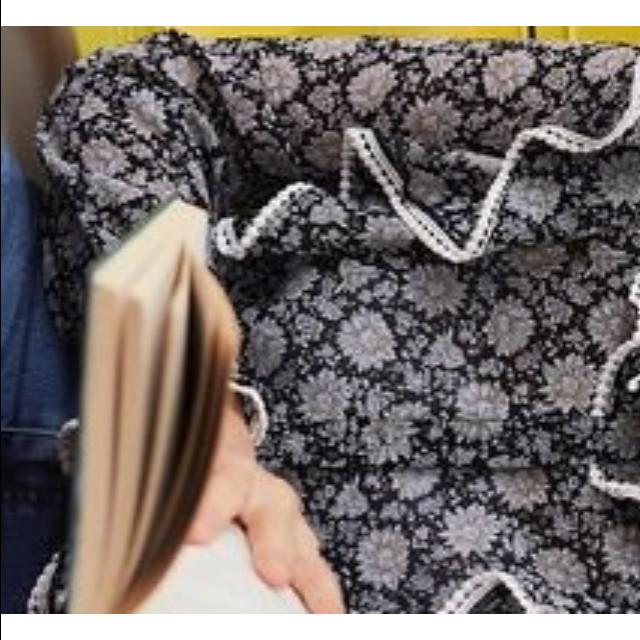polyester: (324, 66, 640, 554)
